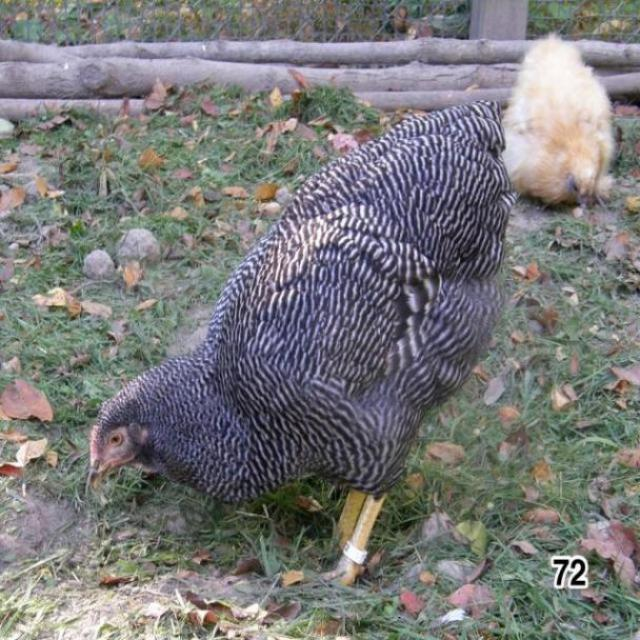Chicken: (81, 85, 540, 588), (494, 26, 615, 213)
